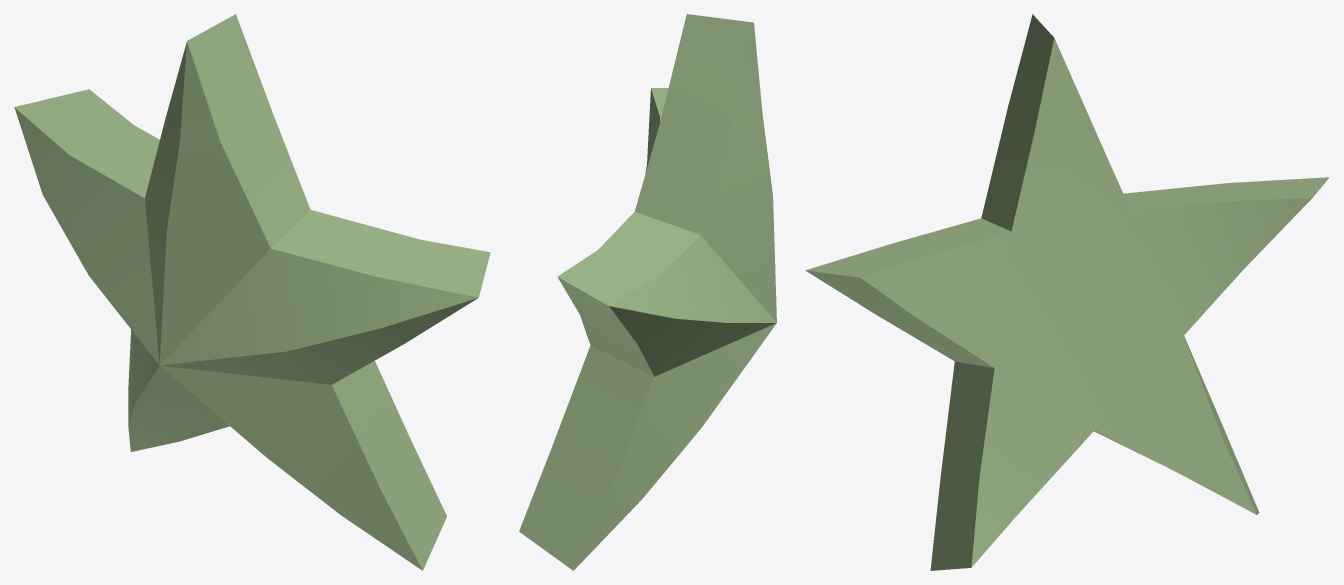
Rendered from TL4_Frame_Star.001 2.glb.
The picture shows the model from 3 angles, left to right: view 1: azimuth 30°, elevation 25°; view 2: azimuth 150°, elevation 25°; view 3: azimuth 270°, elevation 25°; orthographic projection. The views are drawn at different scales.
Visible parts, largest first — view 1: TL4_Frame_Star.001; view 2: TL4_Frame_Star.001; view 3: TL4_Frame_Star.001.
Part boxes in pixels (bbox=[...]): TL4_Frame_Star.001: bbox=[14, 14, 490, 570]; TL4_Frame_Star.001: bbox=[519, 14, 776, 570]; TL4_Frame_Star.001: bbox=[805, 14, 1329, 570].
Size of the model in its own units: 0.2194 by 0.4292 by 0.4239.
